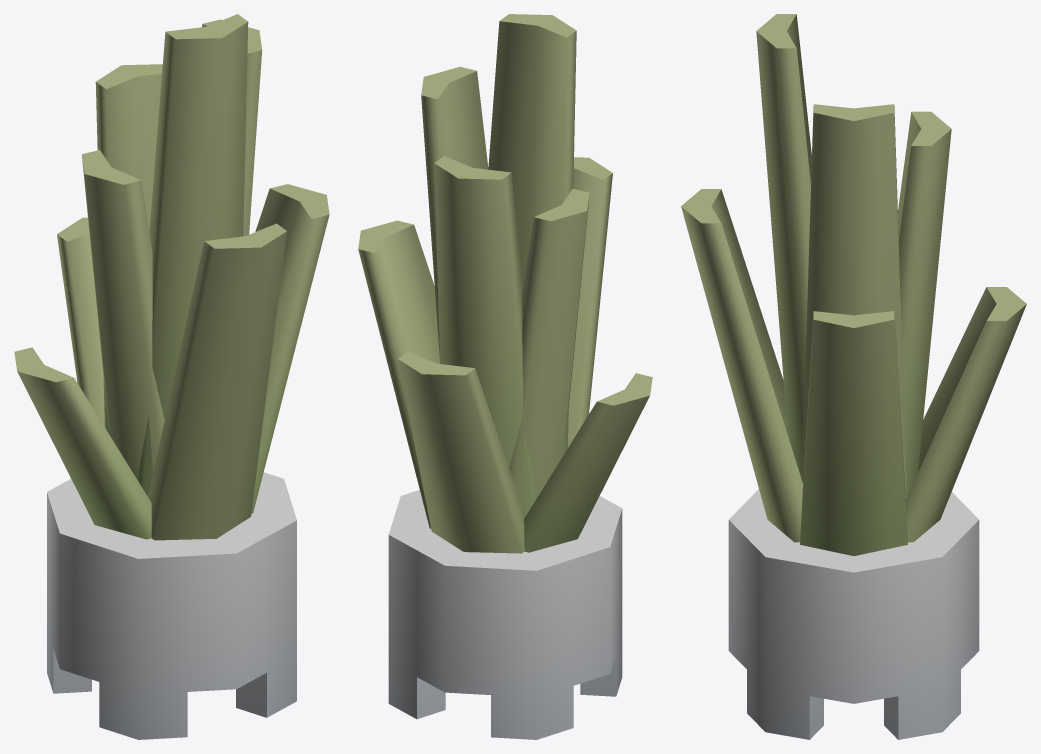
File: plant-large-spikes.glb
3 renders of one model, left to right at view 1: azimuth 30°, elevation 25°; view 2: azimuth 150°, elevation 25°; view 3: azimuth 270°, elevation 25°, orthographic. The views are drawn at different scales.
Parts seen in each view (by area): view 1: plant-large-spikes; view 2: plant-large-spikes; view 3: plant-large-spikes.
Part boxes in pixels (<box>): plant-large-spikes: <box>14,14,329,739</box>; plant-large-spikes: <box>358,14,652,739</box>; plant-large-spikes: <box>681,14,1026,739</box>.
Size of the model in its own units: 0.358 by 0.758 by 0.358.
